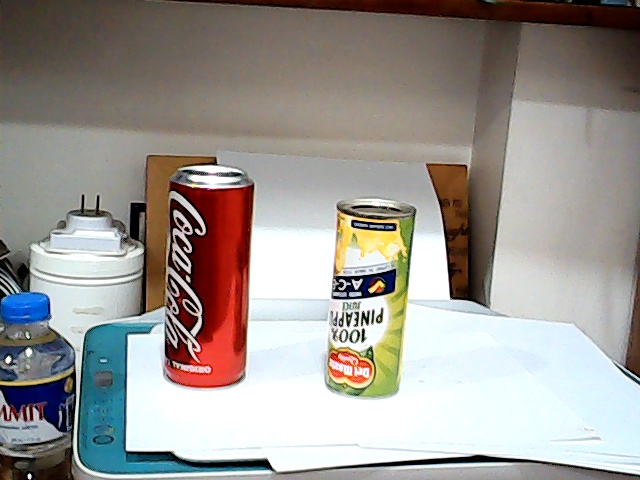Cola: (157, 156, 258, 389)
Pine Juice: (324, 191, 420, 402)
Summit Water: (1, 287, 80, 480)
